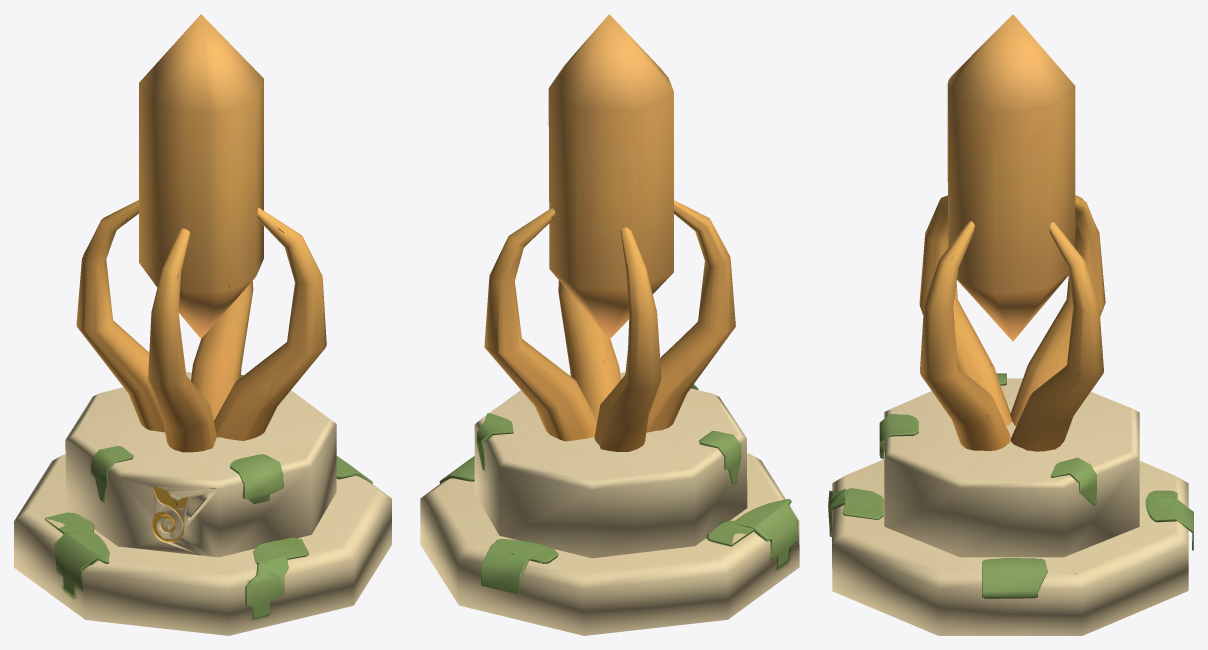
The model's file is pierre_soleil_meshy.glb.
3 views of the same model, side by side, from view 1: azimuth 30°, elevation 25°; view 2: azimuth 150°, elevation 25°; view 3: azimuth 270°, elevation 25° (orthographic).
Visible parts, largest first — view 1: geometry_0; view 2: geometry_0; view 3: geometry_0.
Part boxes in pixels (x1,y1,x2,y2): geometry_0: (14, 14, 391, 635); geometry_0: (420, 14, 799, 635); geometry_0: (828, 14, 1193, 635).
Size of the model in its own units: 0.5718 by 0.9502 by 0.5767.
Materials: 1 (1 with a texture image).
